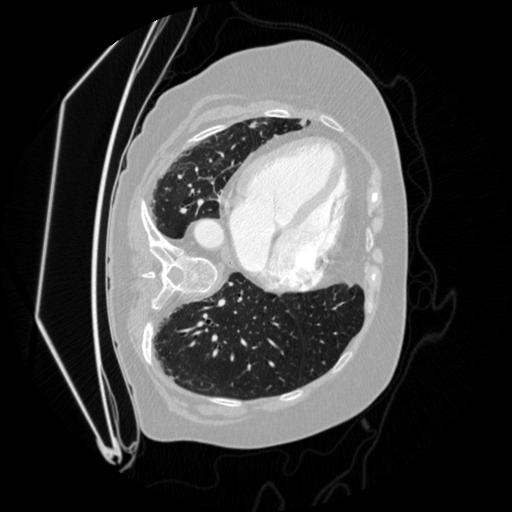nodule: (297, 118, 310, 131)
